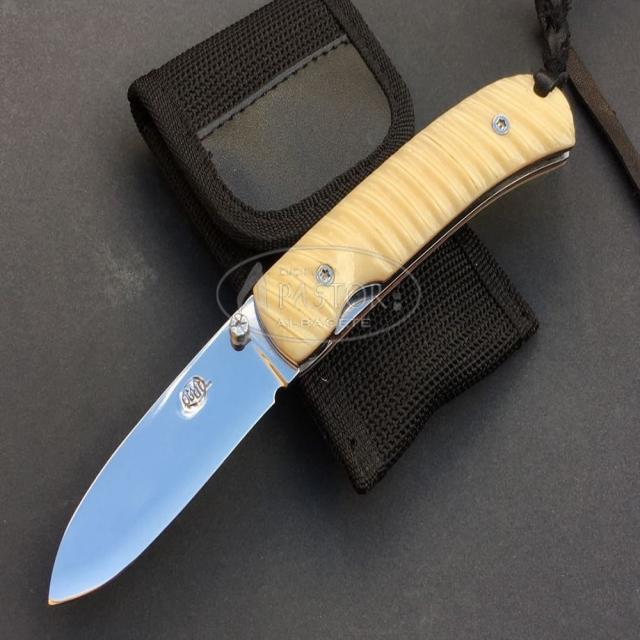knife: (30, 57, 586, 616)
